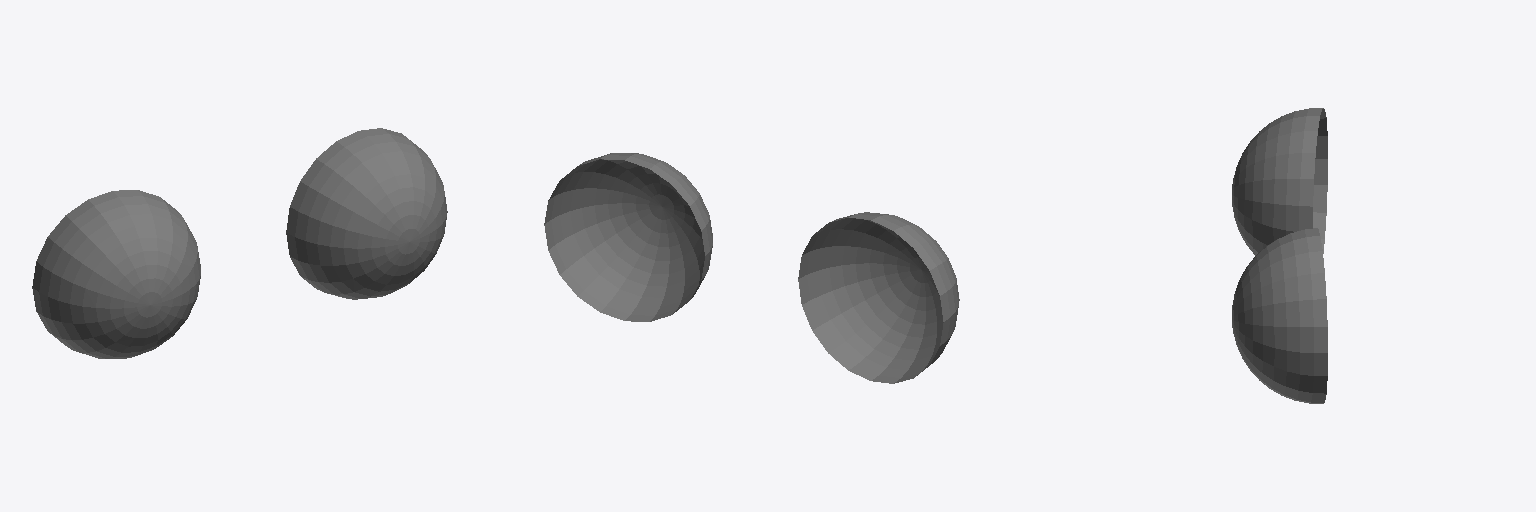
Rendered from african_head_eye_outer.obj.
3 renders of one model, left to right at view 1: azimuth 30°, elevation 25°; view 2: azimuth 150°, elevation 25°; view 3: azimuth 270°, elevation 25°, orthographic.
Visible parts, largest first — view 1: eyeOutter; view 2: eyeOutter; view 3: eyeOutter.
Part boxes in pixels (x1,y1,x2,y2): eyeOutter: (32, 128, 447, 358); eyeOutter: (544, 153, 959, 383); eyeOutter: (1232, 108, 1327, 403).
Size of the model in its own units: 0.6074 by 0.2338 by 0.1268.